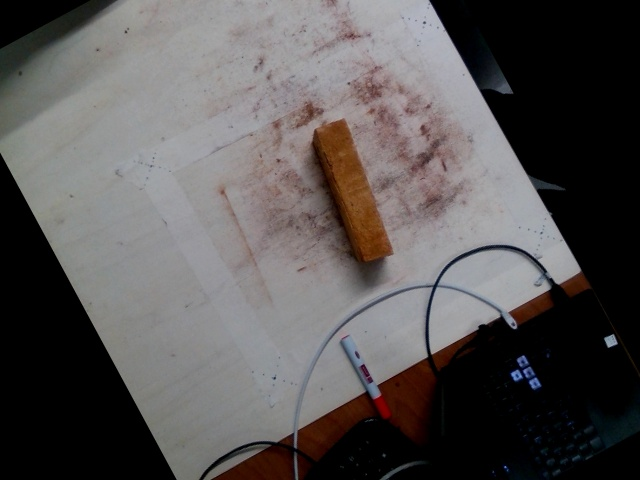brick-side: (318, 119, 389, 260)
